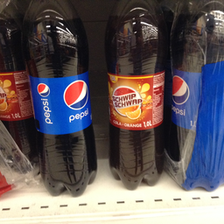soda: (22, 1, 98, 197), (103, 4, 166, 189), (171, 1, 222, 192)
